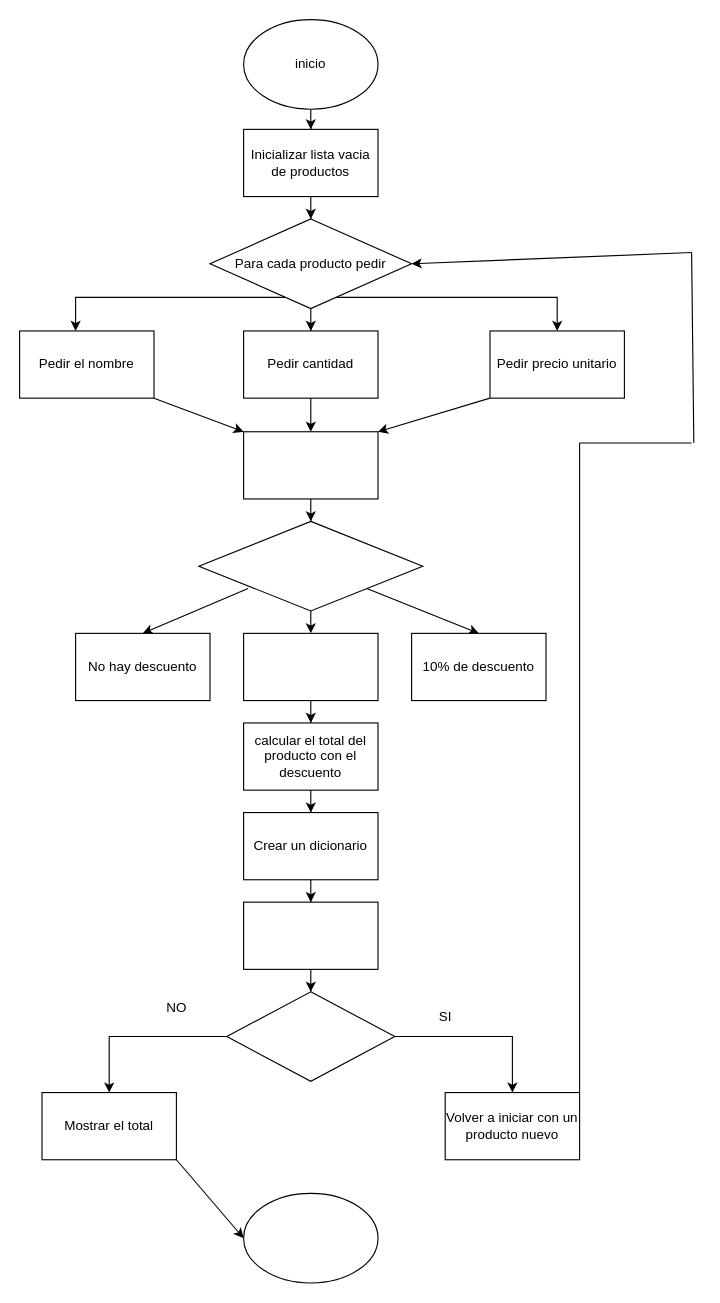
This 720x1303 diagram has some shape labels left out. The centre of each missing label's shape, as x and y in pixels:
"5% de descuento" goes at [310,666].
"Añadir el diccionario a la lista" goes at [310,935].
"Calcular el subtotal con el precio unitario" goes at [310,465].
"Cantidad de descuento" goes at [310,565].
"FIN" goes at [310,1237].
"Hay mas productos?" goes at [310,1036].
